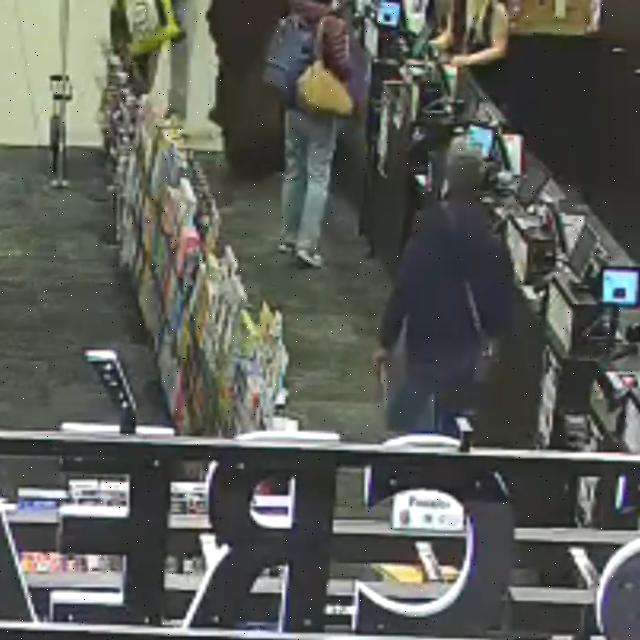article: (380, 359, 390, 410)
bags: (298, 19, 353, 117), (263, 16, 314, 106), (125, 0, 185, 56), (464, 280, 496, 382)
hands: (373, 348, 388, 372), (449, 55, 471, 68)
person: (375, 137, 512, 436), (279, 106, 339, 267), (432, 0, 509, 108), (111, 0, 161, 93)
